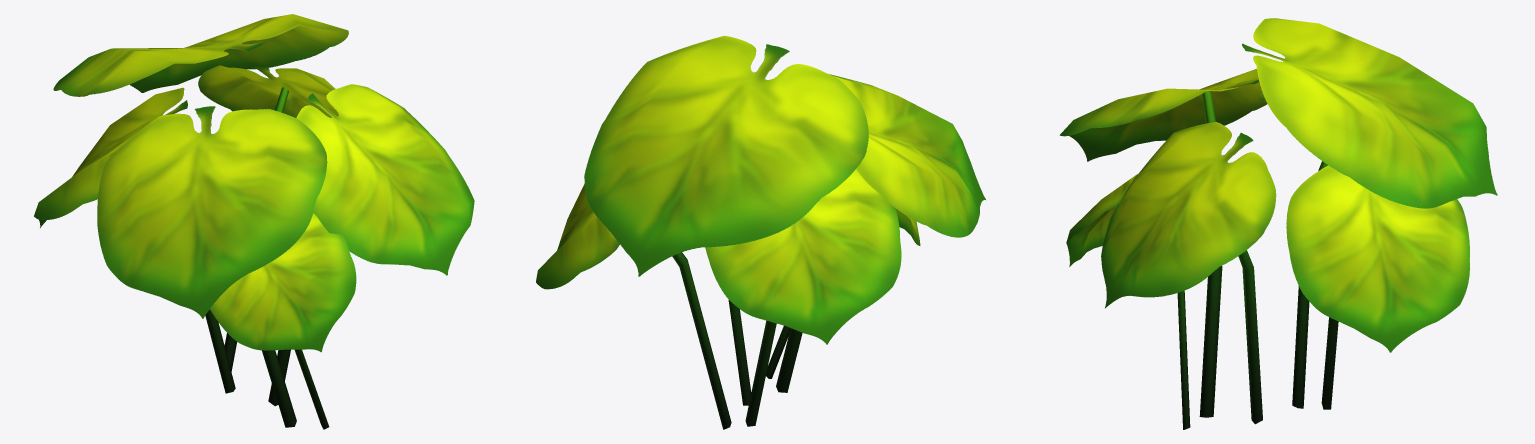
File: LabPlantA.fbx
3 renders of one model, left to right at view 1: azimuth 30°, elevation 25°; view 2: azimuth 150°, elevation 25°; view 3: azimuth 270°, elevation 25°, orthographic. The views are drawn at different scales.
Parts seen in each view (by area): view 1: LabPlantA; view 2: LabPlantA; view 3: LabPlantA.
Part boxes in pixels (x1,y1,x2,y2): LabPlantA: (34,14,474,429); LabPlantA: (536,35,985,429); LabPlantA: (1059,18,1497,429).
Size of the model in its own units: 48.78 by 47.99 by 57.24.
